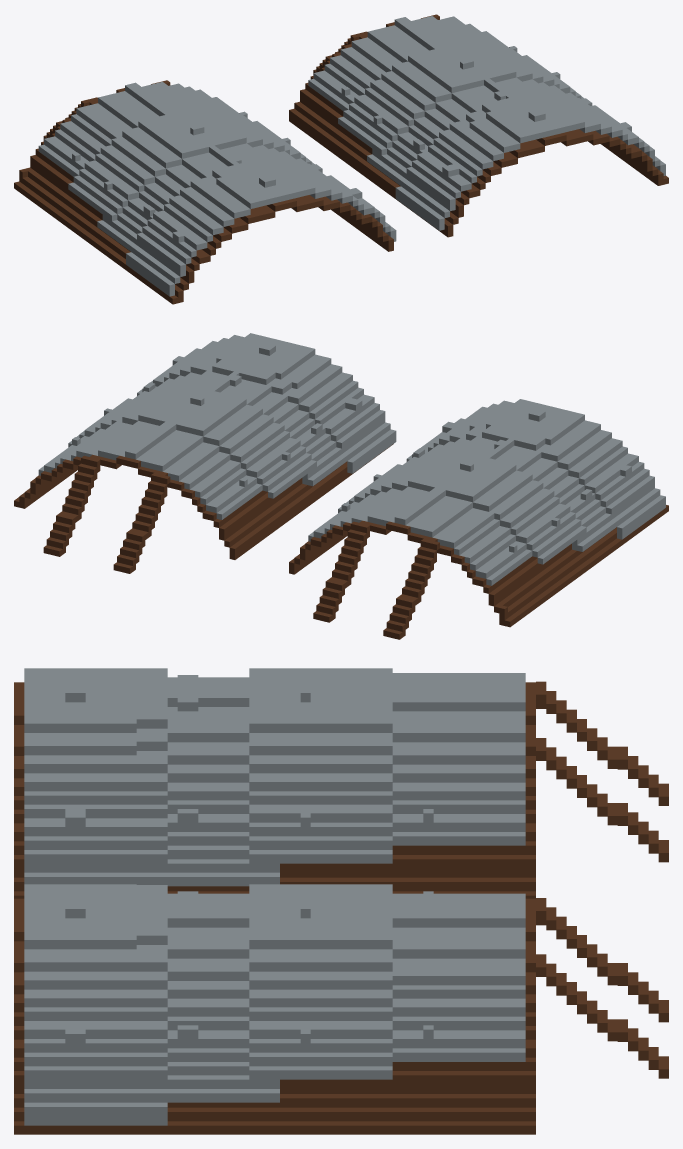
File: mc_shoulder_guards.glb
3 views of the same model, one above another, from view 1: azimuth 30°, elevation 25°; view 2: azimuth 150°, elevation 25°; view 3: azimuth 270°, elevation 25° (orthographic). The views are drawn at different scales.
Parts seen in each view (by area): view 1: mc_shoulder_guards:compound; view 2: mc_shoulder_guards:compound; view 3: mc_shoulder_guards:compound.
Part boxes in pixels (box(x1,y1,x2,y2)): mc_shoulder_guards:compound: box(14, 14, 668, 304); mc_shoulder_guards:compound: box(14, 333, 668, 639); mc_shoulder_guards:compound: box(14, 668, 668, 1134).
Bounding box in the file's own units: 0.368 × 0.06 × 0.256.
